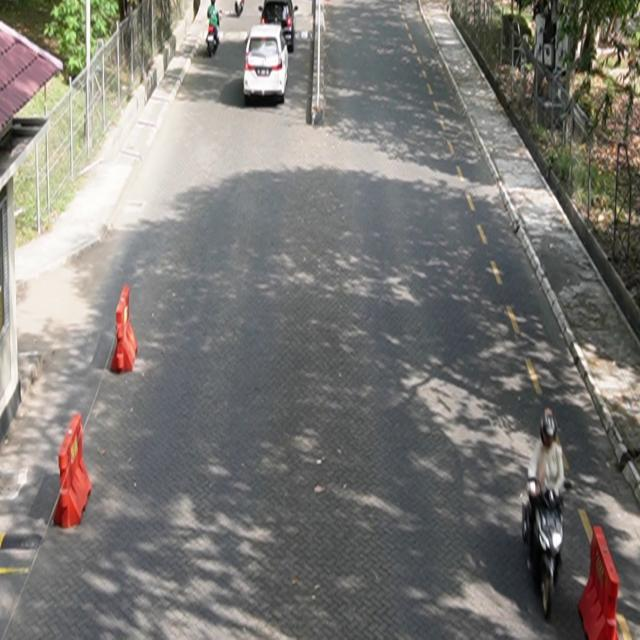car: (244, 24, 290, 105)
